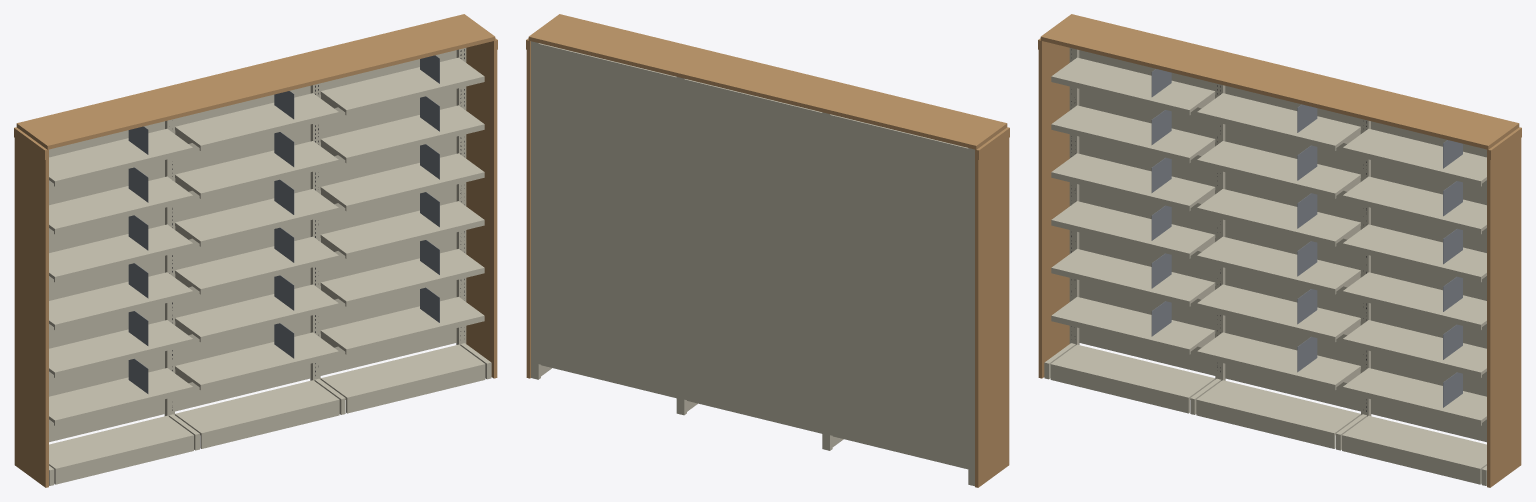
Rendered from 071_library_book_stack_single_faced.glb.
The picture shows the model from 3 angles, left to right: view 1: azimuth 30°, elevation 25°; view 2: azimuth 150°, elevation 25°; view 3: azimuth 330°, elevation 25°; orthographic projection.
Visible parts, largest first — view 1: 118_stack_canopy_top, 116_stack_back_panel, 082_stack_back_panel, 048_stack_back_panel, 119_stack_end_panel, 121_stack_end_panel, 050_stack_base_shelf, 084_stack_base_shelf, 016_stack_base_shelf, 057_stack_shelf, 077_stack_shelf, 052_stack_shelf (+49 smaller); view 2: 116_stack_back_panel, 048_stack_back_panel, 082_stack_back_panel, 118_stack_canopy_top, 119_stack_end_panel, 008_stack_upright, 004_stack_upright, 012_stack_upright, 000_stack_upright, 121_stack_end_panel, 049_stack_top_spreader, 117_stack_top_spreader (+1 smaller); view 3: 118_stack_canopy_top, 048_stack_back_panel, 082_stack_back_panel, 116_stack_back_panel, 121_stack_end_panel, 119_stack_end_panel, 016_stack_base_shelf, 050_stack_base_shelf, 084_stack_base_shelf, 052_stack_shelf, 077_stack_shelf, 018_stack_shelf (+49 smaller).
Part boxes in pixels (<box>): 118_stack_canopy_top: <box>16,14,495,149</box>; 116_stack_back_panel: <box>320,50,456,375</box>; 082_stack_back_panel: <box>175,86,310,411</box>; 048_stack_back_panel: <box>49,121,164,442</box>; 119_stack_end_panel: <box>14,127,48,487</box>; 121_stack_end_panel: <box>466,39,497,378</box>; 050_stack_base_shelf: <box>175,380,339,436</box>; 084_stack_base_shelf: <box>320,344,485,400</box>; 016_stack_base_shelf: <box>49,415,193,471</box>; 057_stack_shelf: <box>175,284,337,338</box>; 077_stack_shelf: <box>175,93,337,147</box>; 052_stack_shelf: <box>175,332,337,386</box>; 116_stack_back_panel: <box>538,50,676,397</box>; 048_stack_back_panel: <box>830,121,968,468</box>; 082_stack_back_panel: <box>684,85,822,432</box>; 118_stack_canopy_top: <box>528,14,1007,149</box>; 119_stack_end_panel: <box>975,127,1009,487</box>; 008_stack_upright: <box>676,77,686,415</box>; 004_stack_upright: <box>822,112,832,450</box>; 012_stack_upright: <box>531,41,540,379</box>; 000_stack_upright: <box>968,148,974,486</box>; 121_stack_end_panel: <box>526,39,530,378</box>; 049_stack_top_spreader: <box>830,114,968,154</box>; 117_stack_top_spreader: <box>538,43,676,83</box>; 118_stack_canopy_top: <box>1040,14,1519,149</box>; 048_stack_back_panel: <box>1079,50,1215,375</box>; 082_stack_back_panel: <box>1225,86,1360,411</box>; 116_stack_back_panel: <box>1371,121,1486,442</box>; 121_stack_end_panel: <box>1487,127,1521,487</box>; 119_stack_end_panel: <box>1038,39,1069,378</box>; 016_stack_base_shelf: <box>1050,344,1215,400</box>; 050_stack_base_shelf: <box>1196,380,1360,436</box>; 084_stack_base_shelf: <box>1342,415,1486,471</box>; 052_stack_shelf: <box>1198,332,1360,386</box>; 077_stack_shelf: <box>1198,93,1360,147</box>; 018_stack_shelf: <box>1052,297,1215,351</box>.
Size of the model in its own units: 3 by 2.16 by 0.355.
